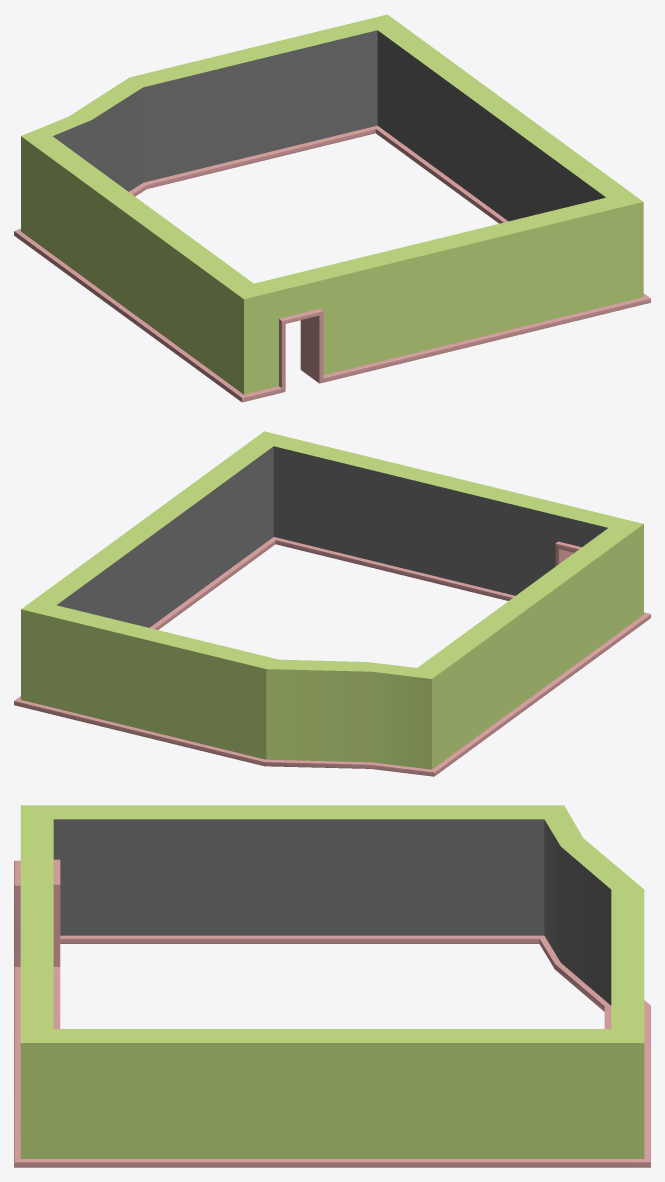
The model's file is BedroomWall_1.fbx.
3 renders of one model, top to bottom at view 1: azimuth 30°, elevation 25°; view 2: azimuth 150°, elevation 25°; view 3: azimuth 270°, elevation 25°, orthographic. The views are drawn at different scales.
Visible parts, largest first — view 1: polySurface8; view 2: polySurface8; view 3: polySurface8.
Boxes of the visible parts, left/top/right/bottom form: polySurface8: left=14, top=14, right=650, bottom=402; polySurface8: left=14, top=431, right=650, bottom=776; polySurface8: left=14, top=805, right=650, bottom=1167.
Bounding box in the file's own units: 17.34 × 4.06 × 19.19.
